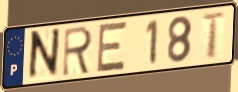1: (144, 19, 160, 66)
8: (166, 14, 194, 65)
E: (95, 19, 129, 75)
N: (26, 25, 62, 84)
R: (60, 24, 95, 79)
T: (200, 11, 228, 60)
